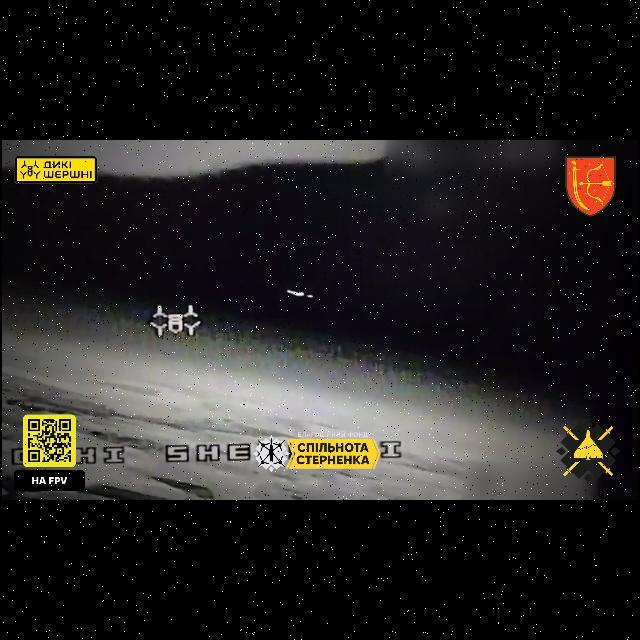Gerbera: (286, 288, 314, 298)
